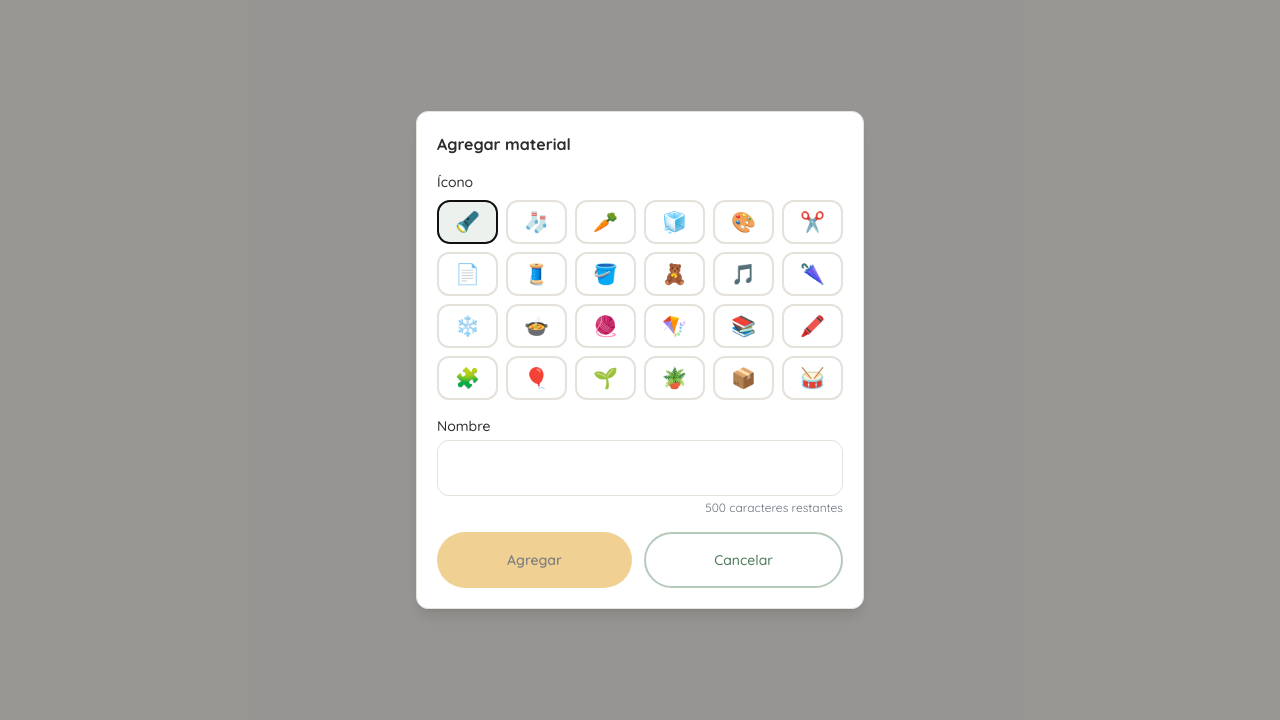
Test: AgregarMaterialForm › habilita el botón Agregar cuando hay ícono y nombre válido
This screenshot has width=1280, height=720.
Type "Cartulina" into the field labelled "Nombre" at x=640, y=468, box left=437, top=440, right=843, bottom=496
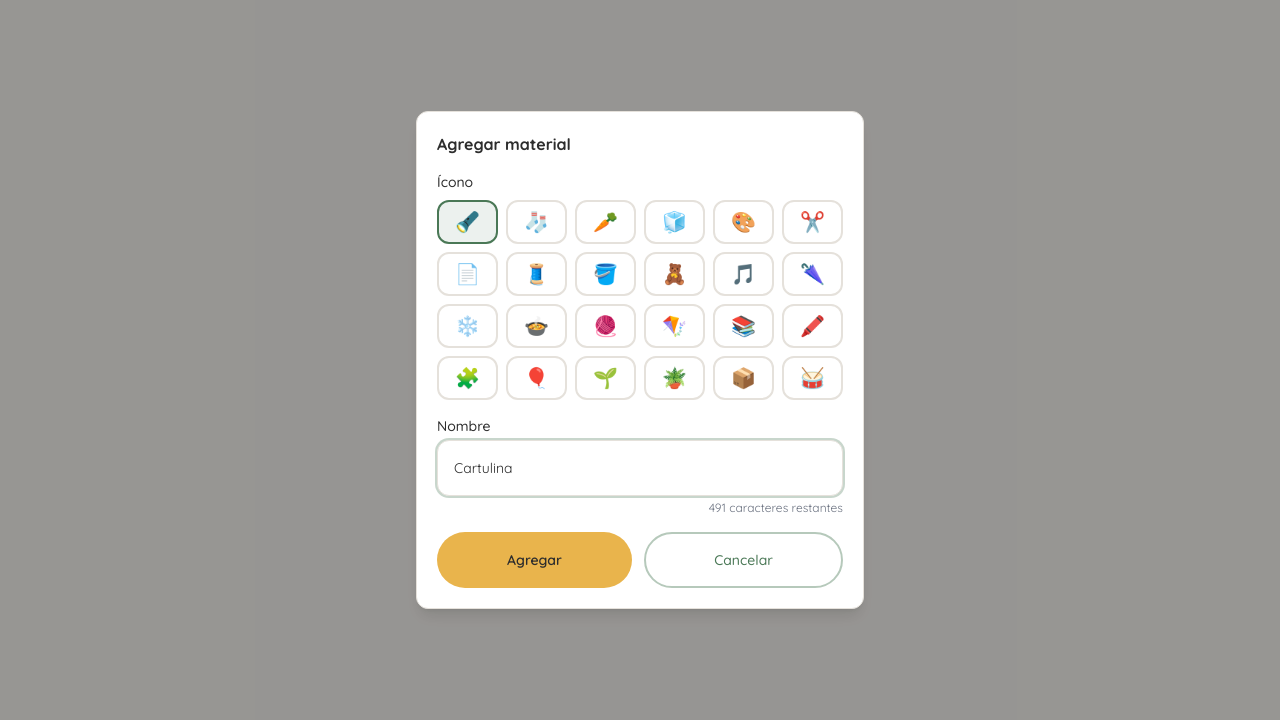
Expected: the button "Agregar" is enabled, left=437, top=532, right=632, bottom=588
